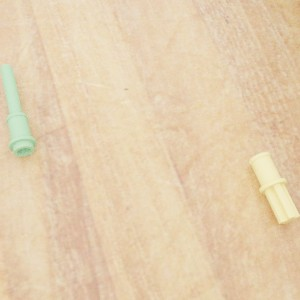lego: (248, 151, 300, 224), (0, 64, 36, 156)
